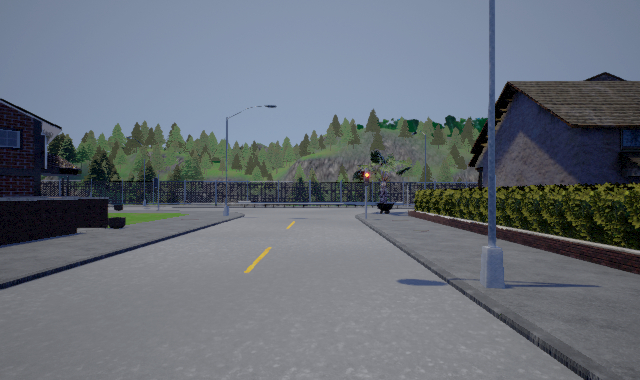traffic_light: (364, 170, 370, 183)
